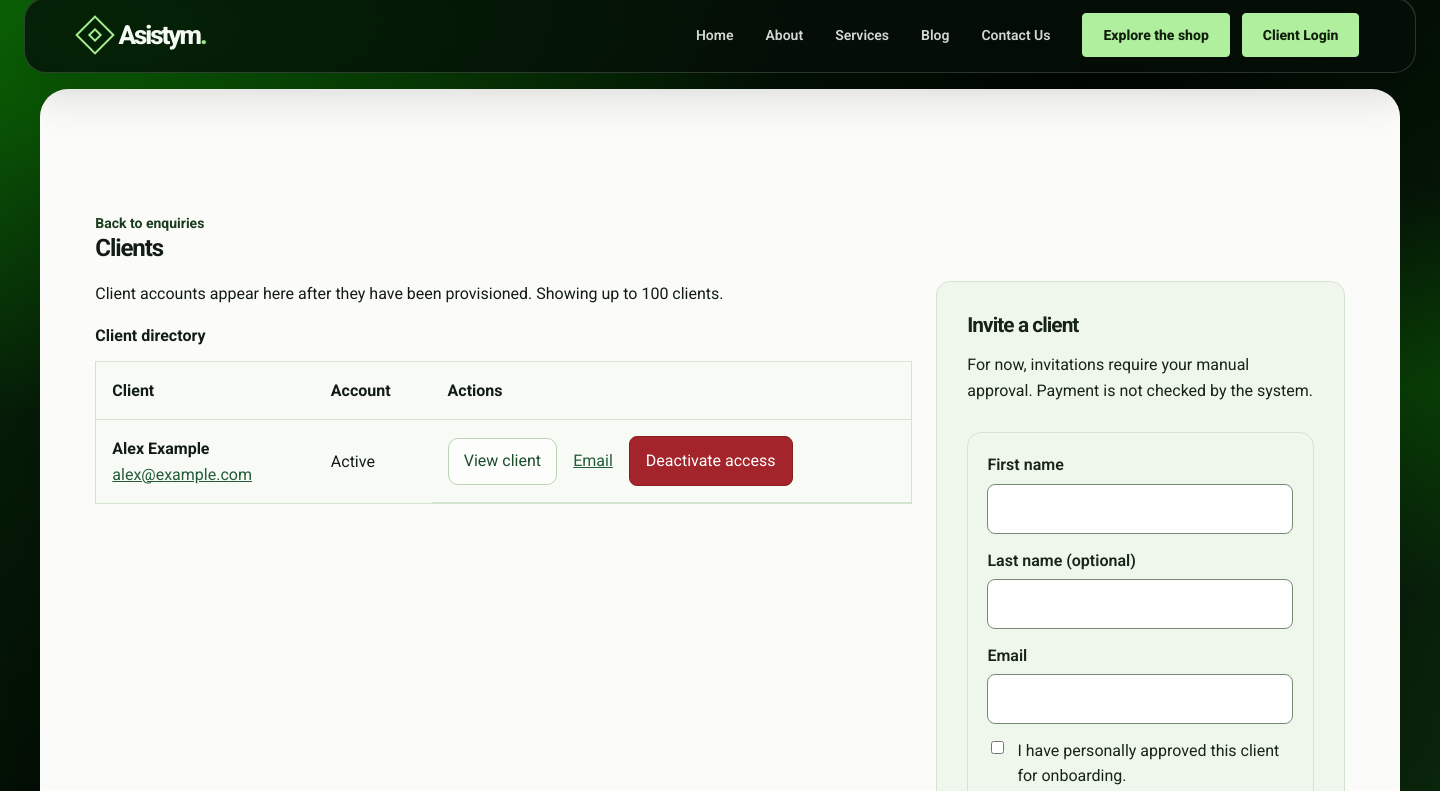
Test: an administrator can select a client and save a private note
This screenshot has width=1440, height=791.
Click the button "View client" at (502, 461), box [448,438,557,485]
(page scrolled)
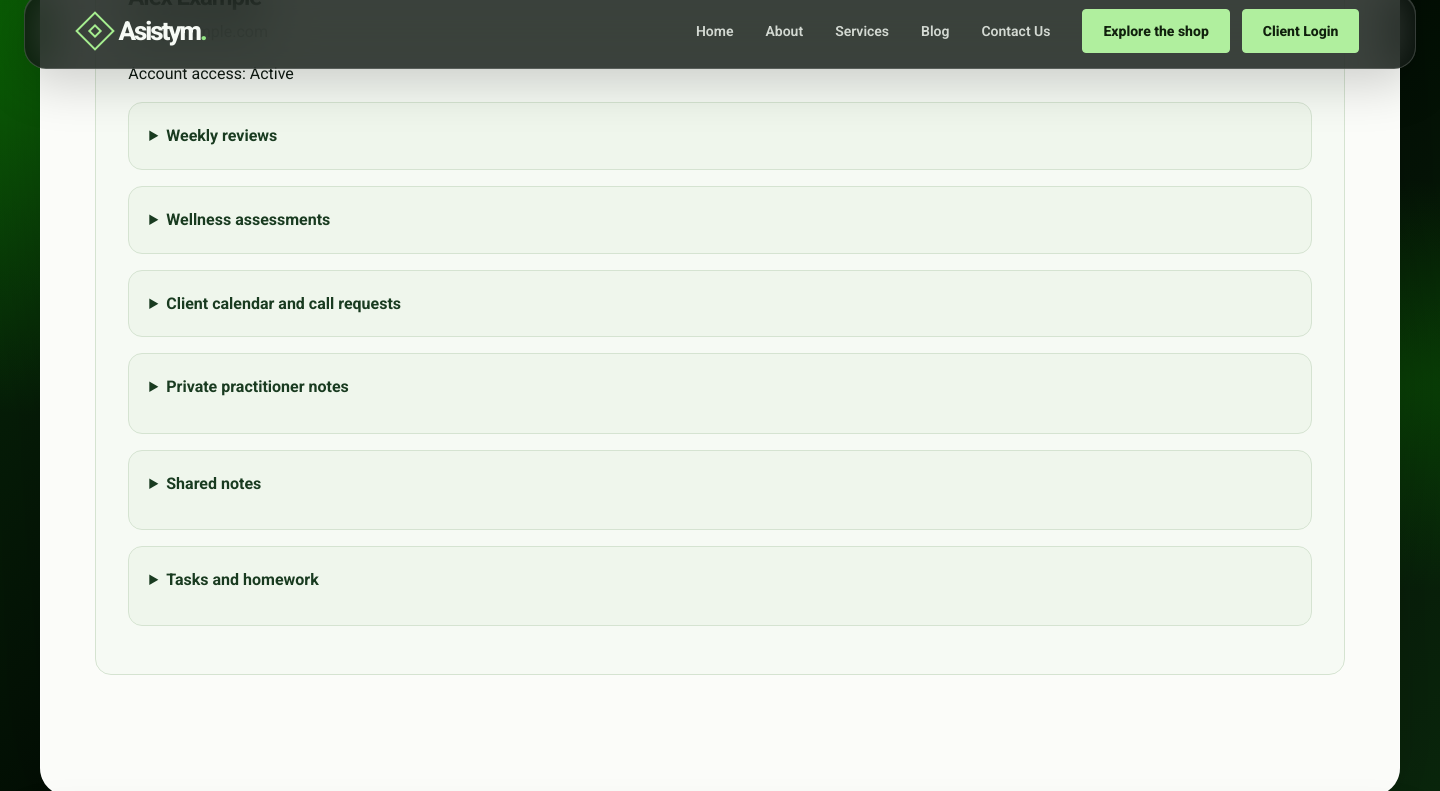
Click the heading "Private practitioner notes" at (258, 387), box [166,377,349,396]
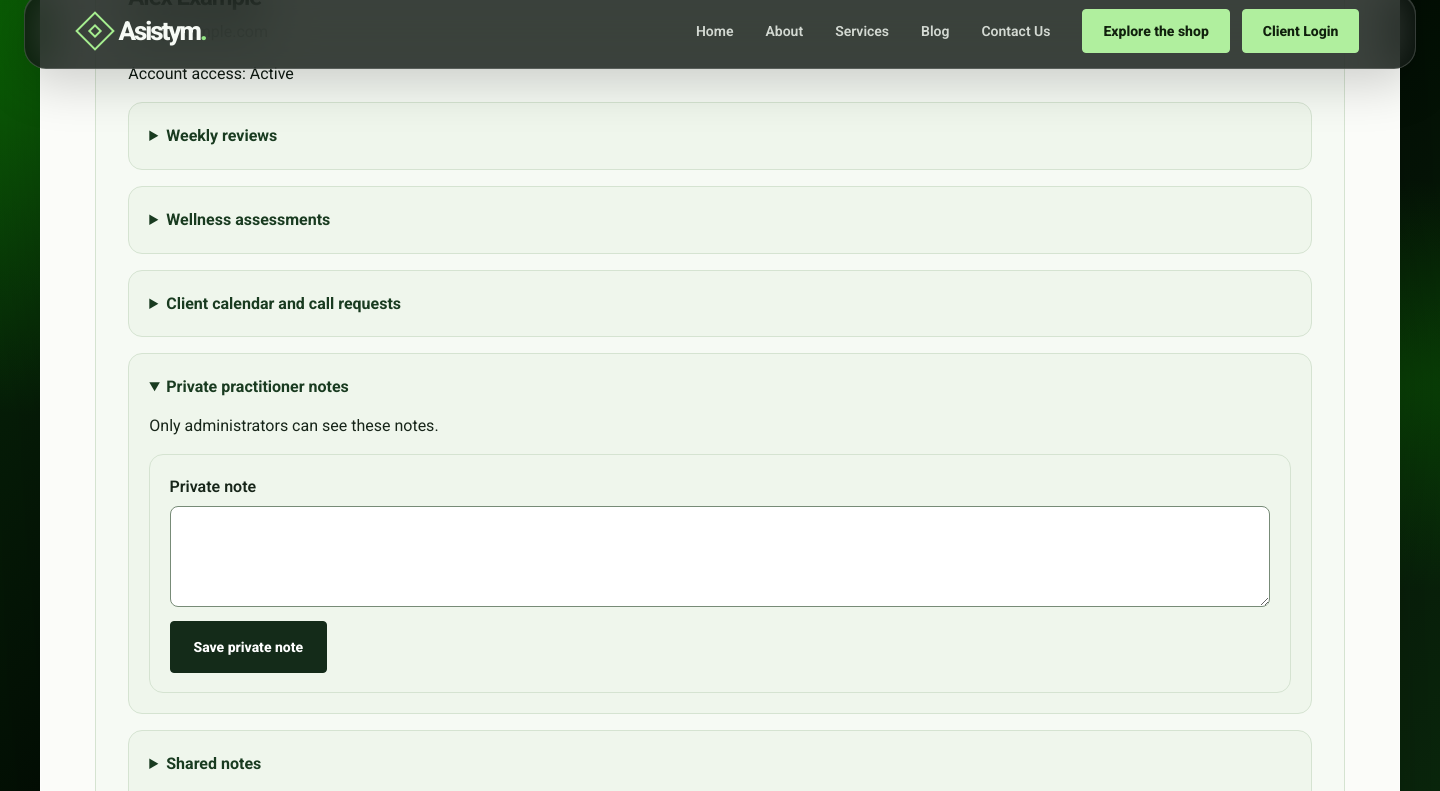
Type "Private observation" into the text box labelled "Private note" at (720, 556), box [170,506,1270,607]
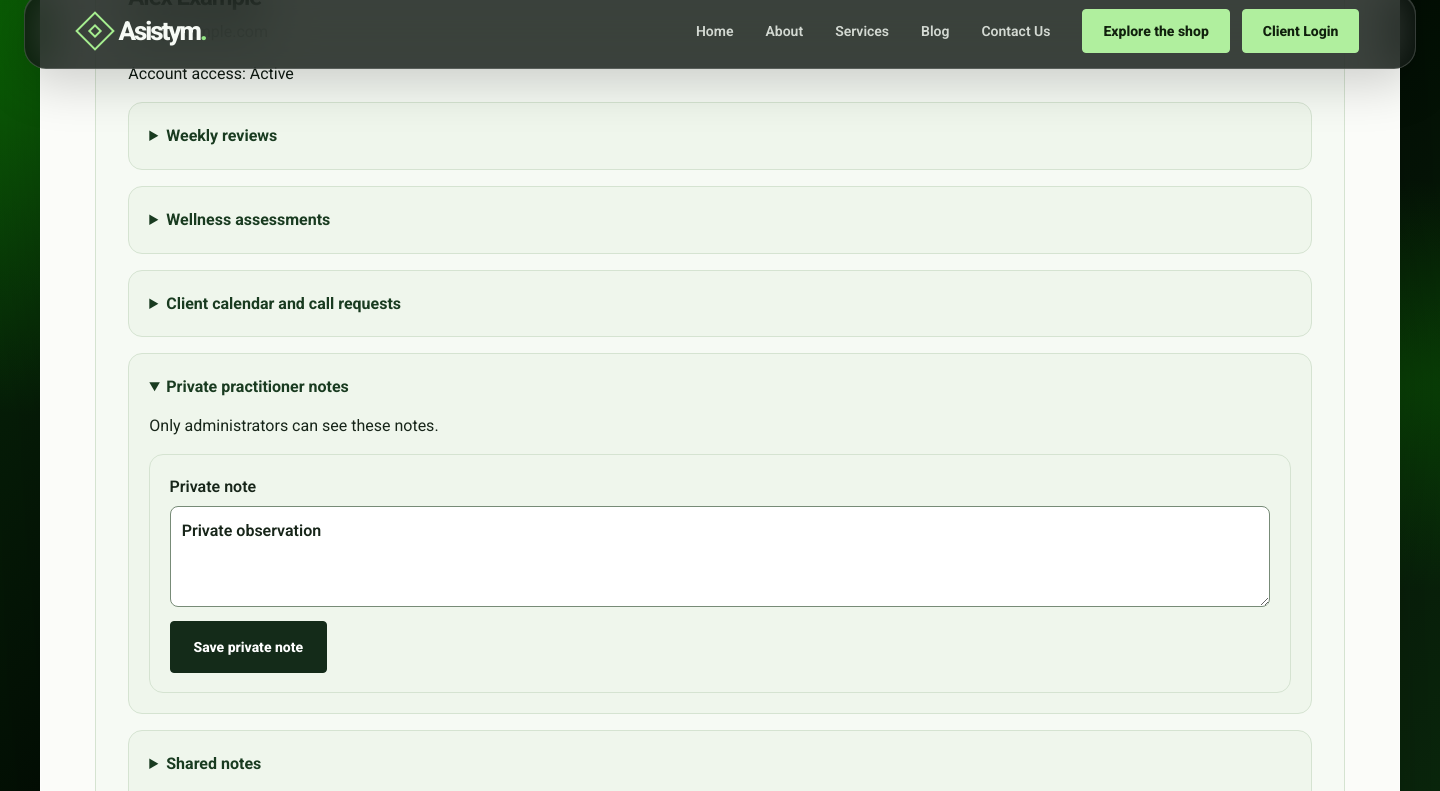
Click the button "Save private note" at (248, 647), box [170,621,327,673]
(page scrolled)
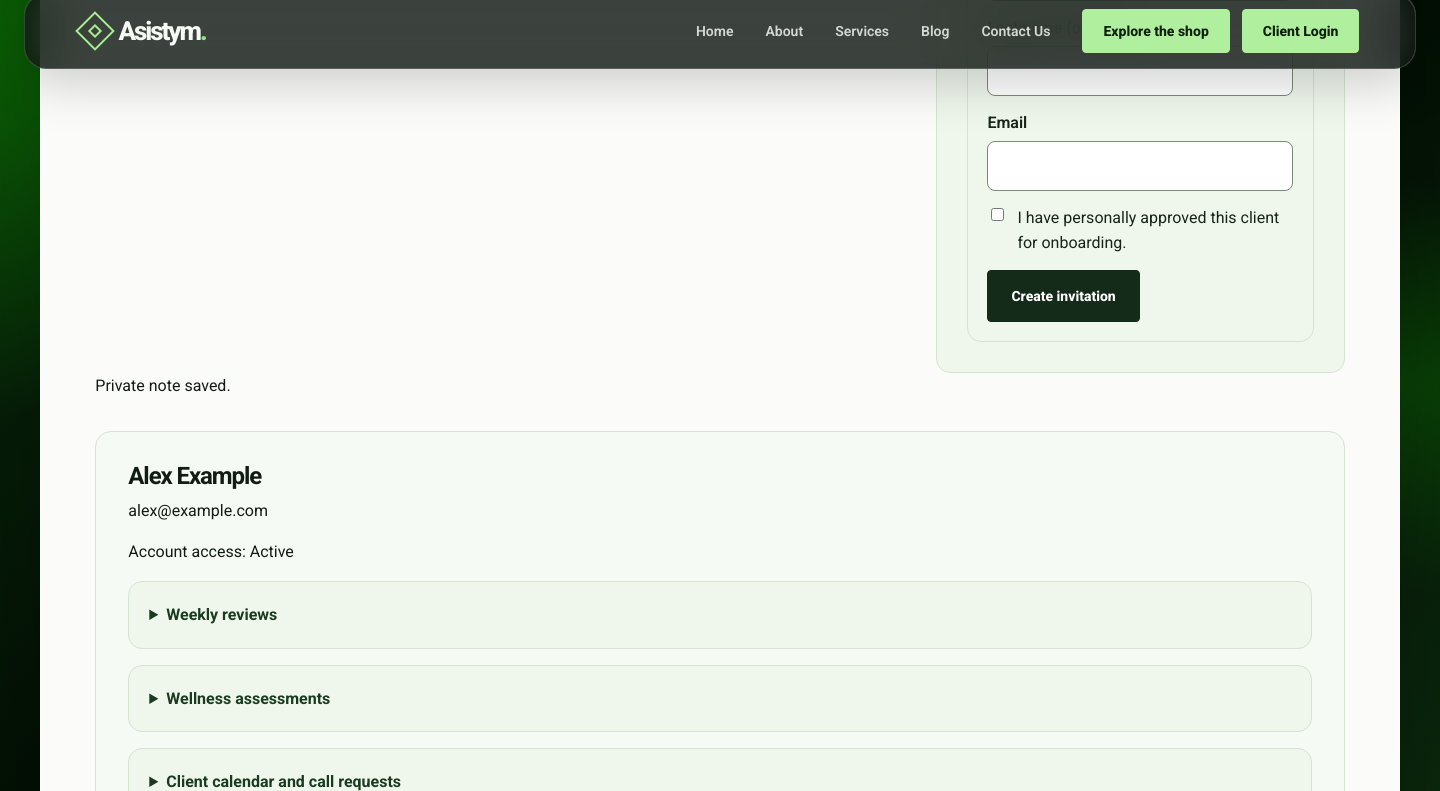
expect the text "Private note saved." is shown: met, box [95,376,231,395]
